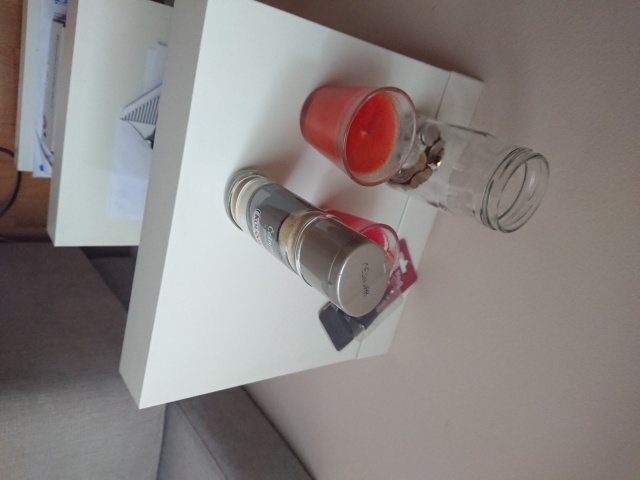Kotanyi Garlic Granules 70g: (221, 166, 394, 320)
